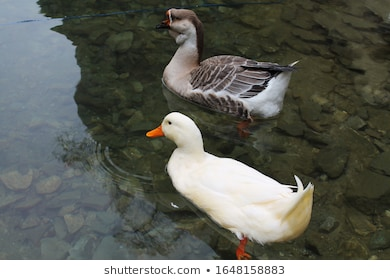duck: (135, 108, 324, 260), (152, 6, 305, 121)
